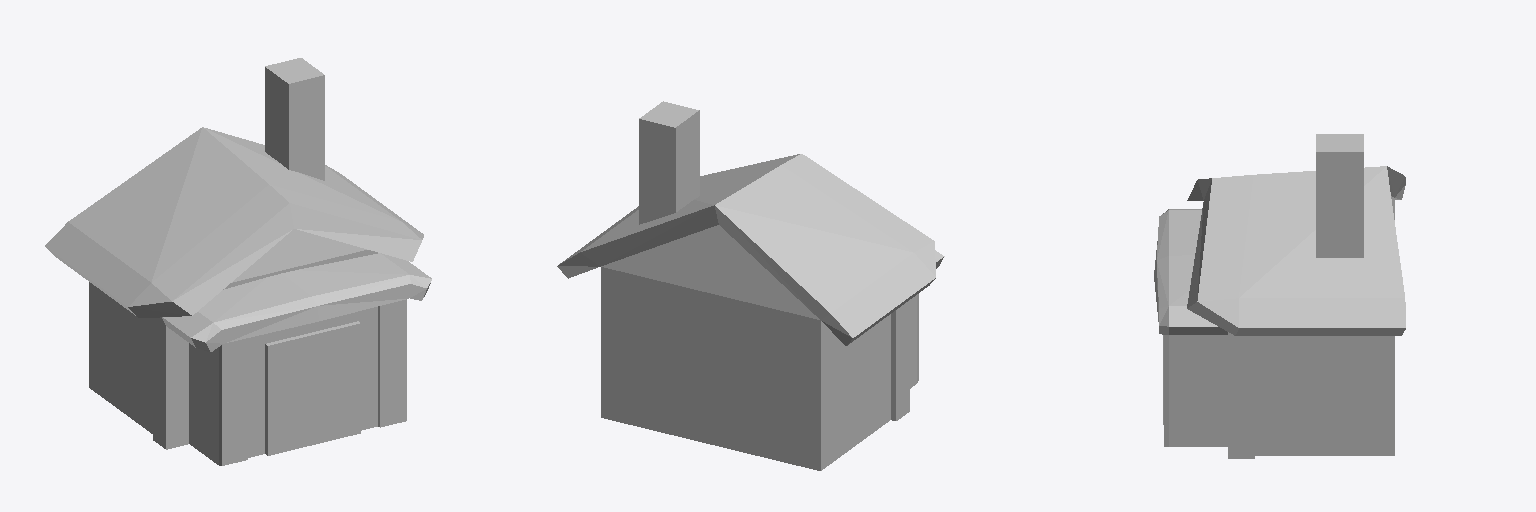
Rendered from house.obj.
The picture shows the model from 3 angles: view 1: azimuth 30°, elevation 25°; view 2: azimuth 150°, elevation 25°; view 3: azimuth 270°, elevation 25°; orthographic projection.
Visible parts, largest first — view 1: Cube; view 2: Cube; view 3: Cube.
Boxes of the visible parts, <box> form: Cube: <box>45,58,431,465</box>; Cube: <box>557,101,944,470</box>; Cube: <box>1154,134,1405,458</box>.
Size of the model in its own units: 61.59 by 58.21 by 45.4.